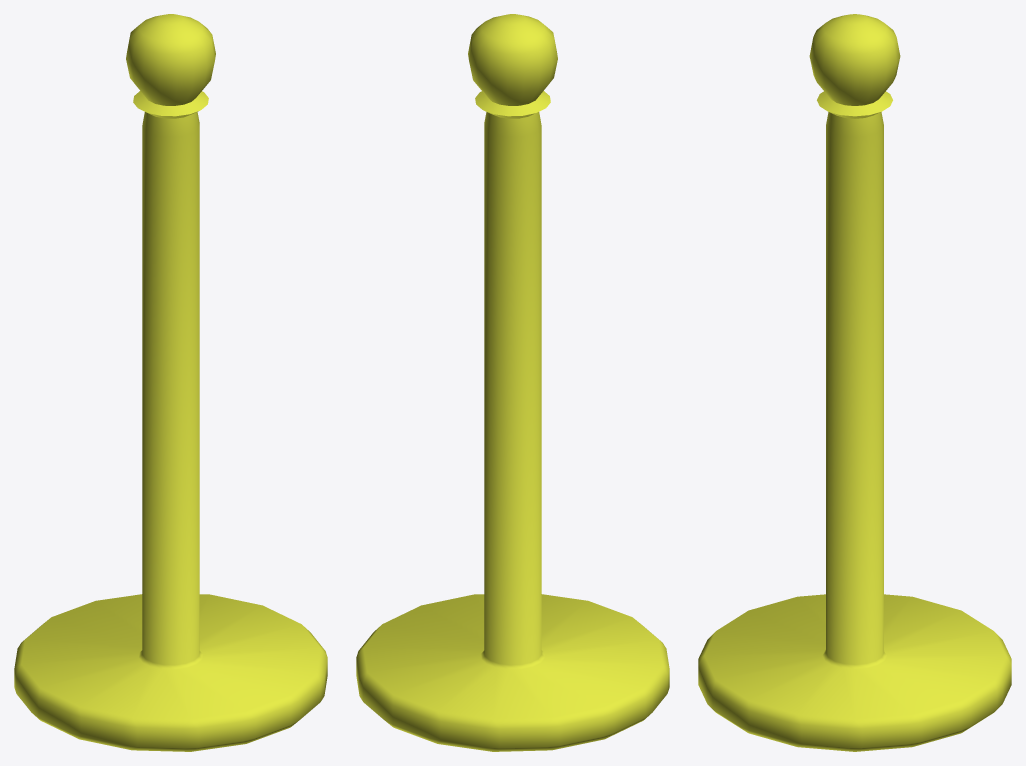
Rendered from DemirHal (1).fbx.
3 renders of one model, left to right at view 1: azimuth 30°, elevation 25°; view 2: azimuth 150°, elevation 25°; view 3: azimuth 270°, elevation 25°, orthographic.
Visible parts, largest first — view 1: demir; view 2: demir; view 3: demir.
Part boxes in pixels (left/top/right/bottom): demir: left=14, top=14, right=327, bottom=751; demir: left=356, top=14, right=669, bottom=751; demir: left=698, top=14, right=1011, bottom=751.
Bounding box in the file's own units: 1.98 × 4.66 × 1.98.
